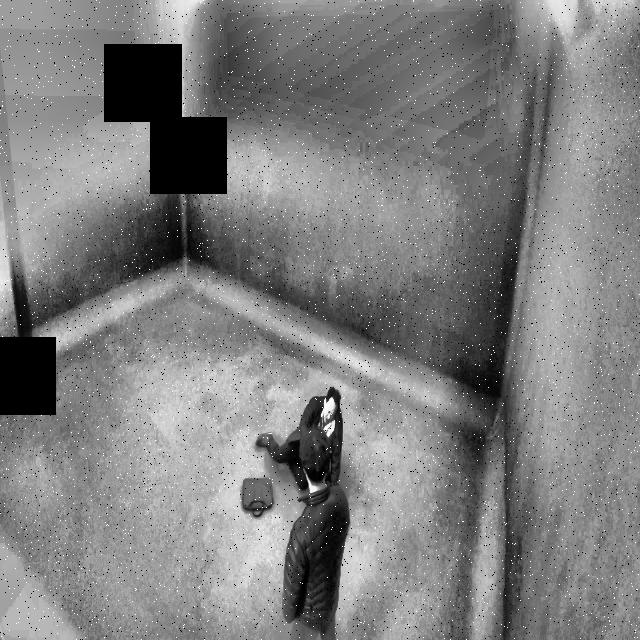assult: (253, 385, 366, 639)
